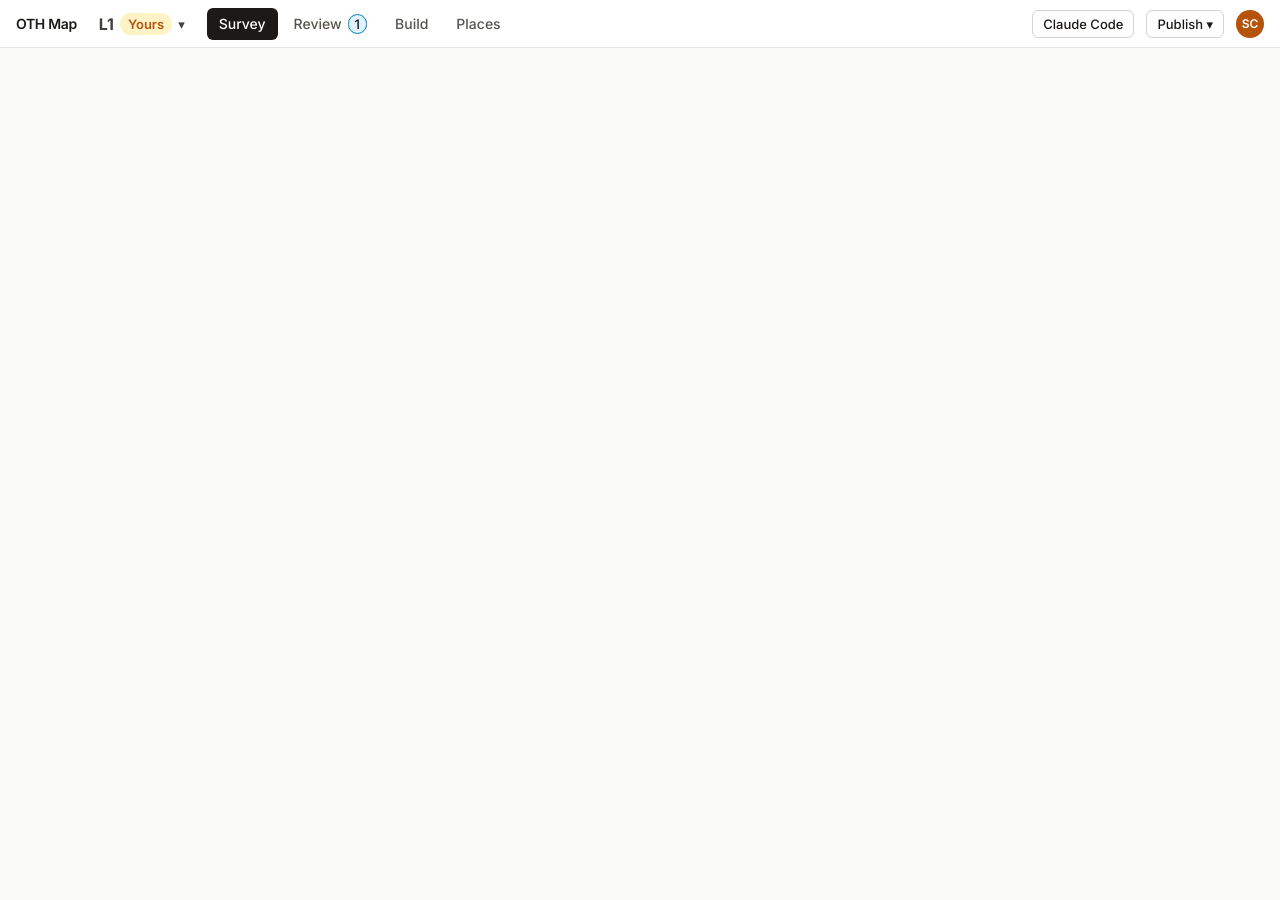
it: Header › closes the switcher once you pick a floor
Click the button with aria-label "Floor L1": (142, 24) [89, 10, 195, 38]
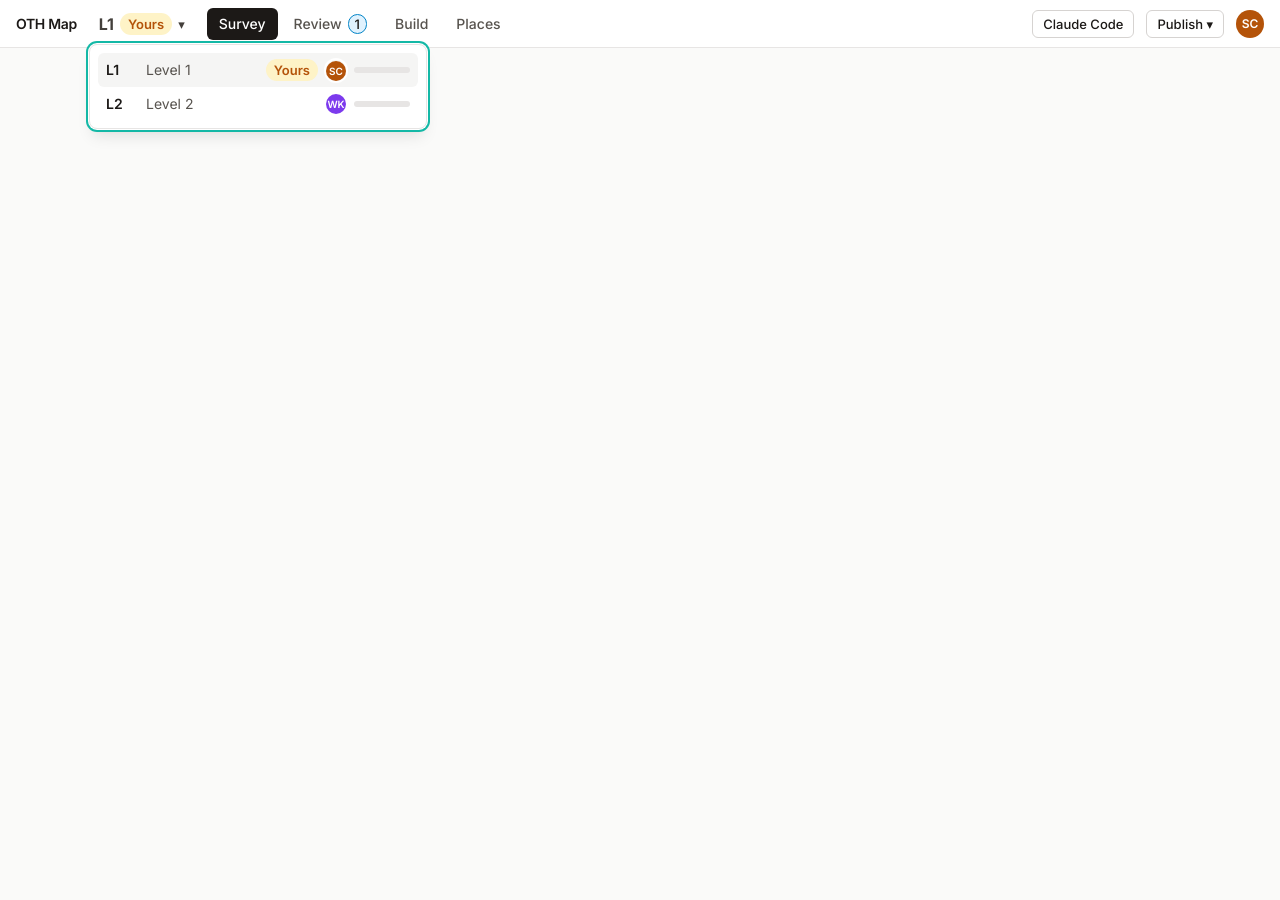
Click the link "L2 Level 2 WK": (170, 103) [98, 87, 418, 120]
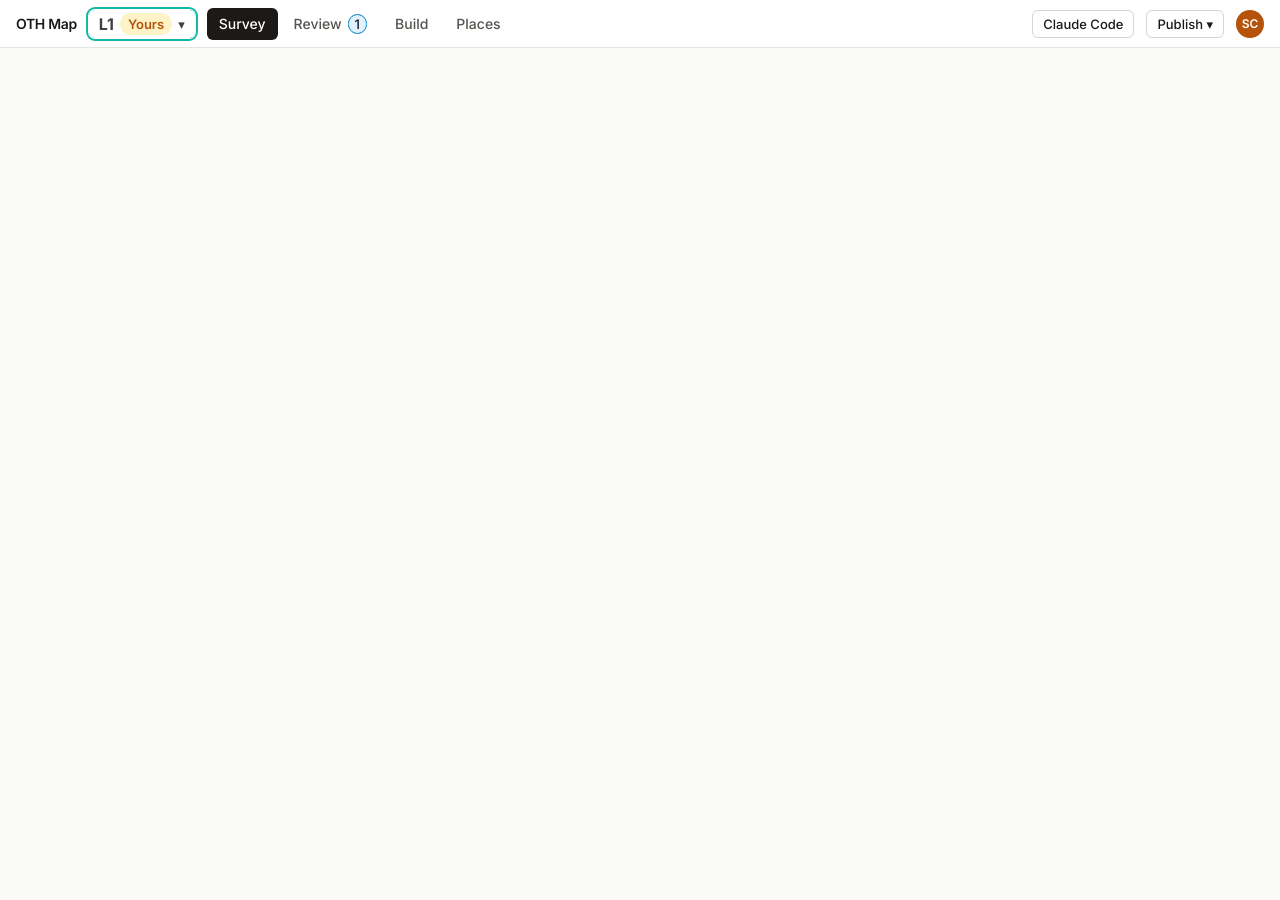
Check: the link "L2" is gone
